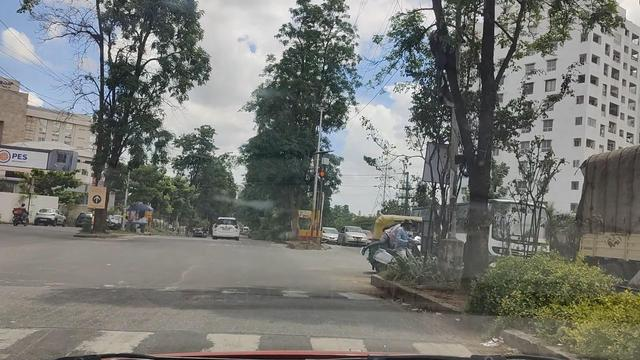RoadDamages: (171, 259, 195, 285)
SpeedBump: (0, 287, 466, 351)
